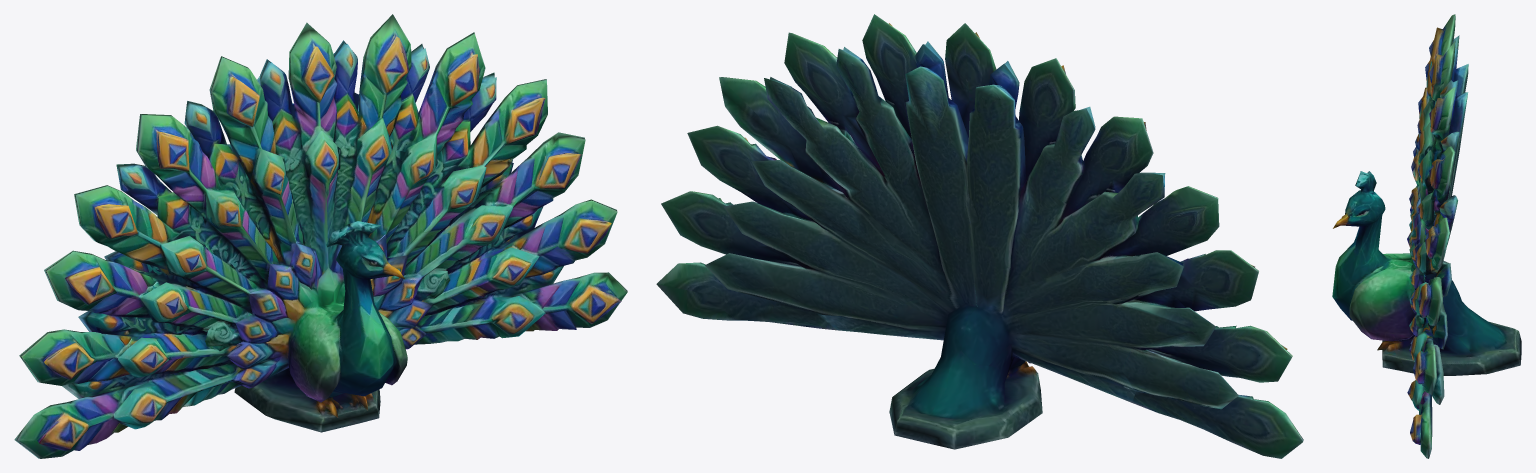
The model's file is tg_shangguan.glb.
3 renders of one model, left to right at view 1: azimuth 30°, elevation 25°; view 2: azimuth 150°, elevation 25°; view 3: azimuth 270°, elevation 25°, orthographic. The views are drawn at different scales.
Parts seen in each view (by area): view 1: tripo_node_4db0a6fc-2e4c-49cb-b6af-2b7879bf40c6; view 2: tripo_node_4db0a6fc-2e4c-49cb-b6af-2b7879bf40c6; view 3: tripo_node_4db0a6fc-2e4c-49cb-b6af-2b7879bf40c6.
Boxes of the visible parts, x1=… form: tripo_node_4db0a6fc-2e4c-49cb-b6af-2b7879bf40c6: x1=14, y1=14, x2=627, y2=458; tripo_node_4db0a6fc-2e4c-49cb-b6af-2b7879bf40c6: x1=656, y1=14, x2=1303, y2=458; tripo_node_4db0a6fc-2e4c-49cb-b6af-2b7879bf40c6: x1=1332, y1=14, x2=1521, y2=458.
Size of the model in its own units: 0.9833 by 0.5699 by 0.3103.
Materials: 1 (1 with a texture image).
